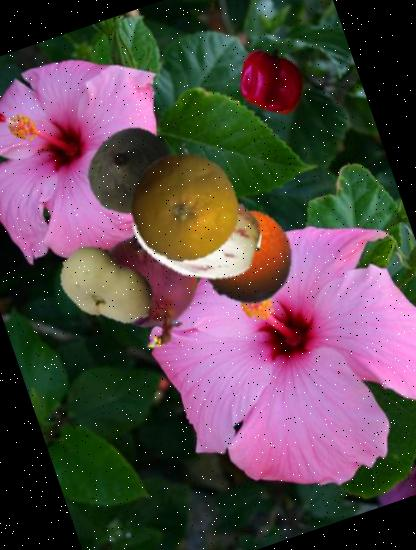Beetroot: (73, 110, 191, 228)
Granadilla: (178, 187, 311, 320)
Grapefruit: (114, 133, 258, 277)
Onion: (76, 212, 227, 363)
Peach: (44, 222, 172, 350)
Pepino: (112, 148, 280, 316)
Pepper: (228, 36, 318, 126)
